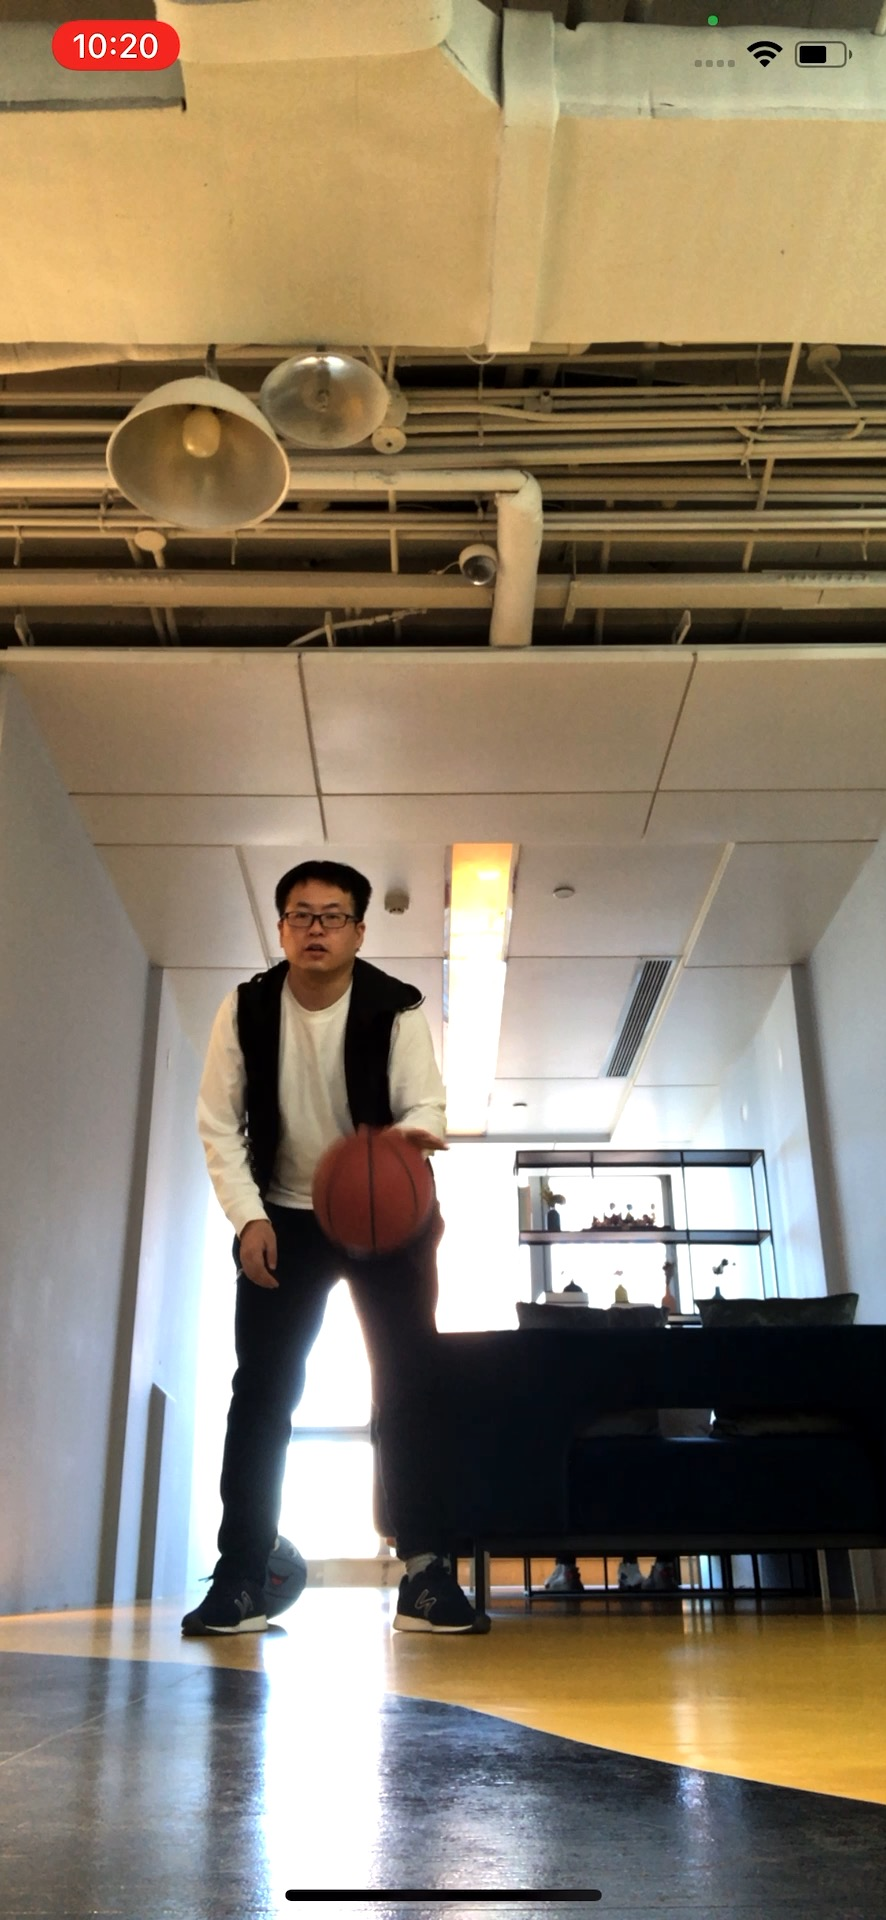ball: (312, 1127, 439, 1255)
